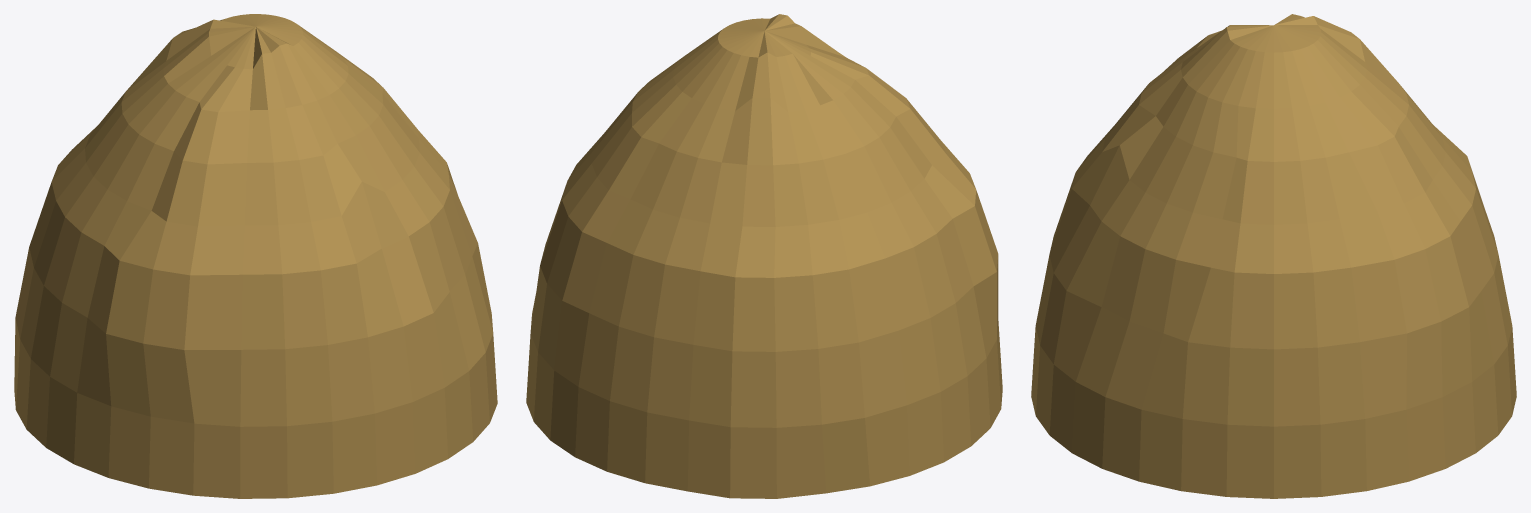
File: haypile.fbx
3 views of the same model, side by side, from view 1: azimuth 30°, elevation 25°; view 2: azimuth 150°, elevation 25°; view 3: azimuth 270°, elevation 25° (orthographic).
Parts seen in each view (by area): view 1: Sphere; view 2: Sphere; view 3: Sphere.
Boxes of the visible parts, left/top/right/bottom form: Sphere: left=14, top=14, right=497, bottom=498; Sphere: left=526, top=14, right=1002, bottom=498; Sphere: left=1031, top=14, right=1516, bottom=498.
Bounding box in the file's own units: 200 × 168 × 200.
